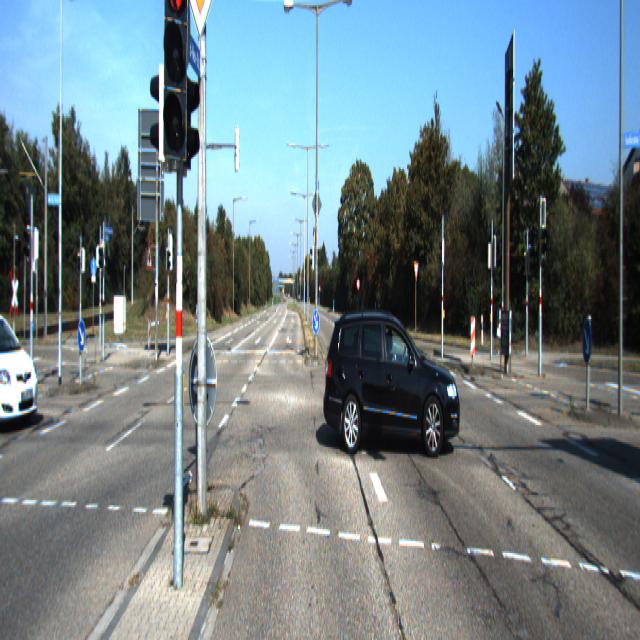Car: (323, 304, 462, 459), (0, 304, 44, 433)
